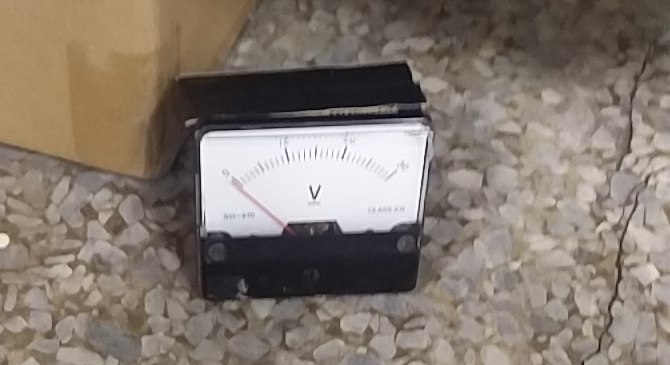Volt_Meter: (191, 122, 434, 240)
